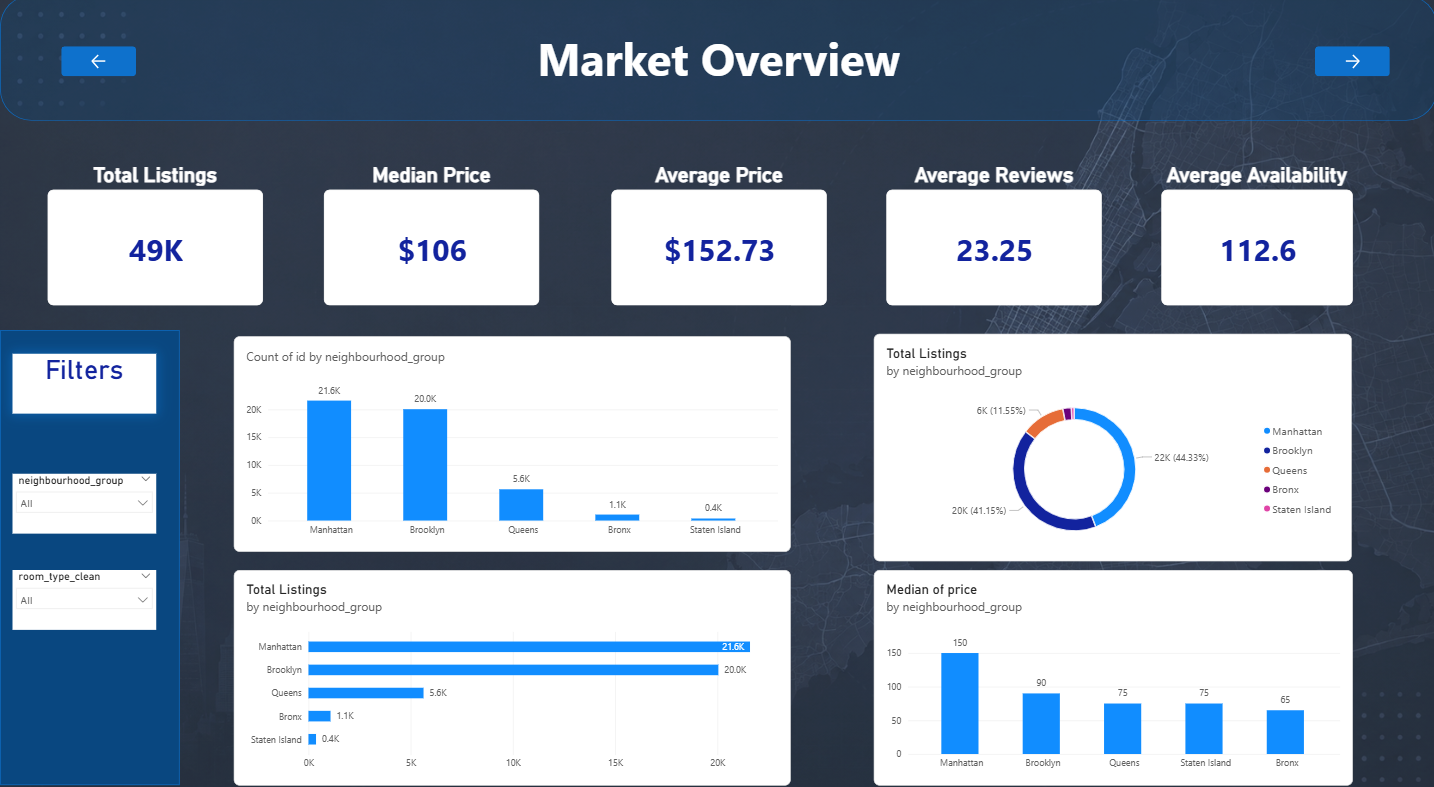

The page's visual inventory and layout, read from the dashboard file:
{"tool":"powerbi","page":{"name":"Market overview","canvas":[1920,1080],"ordinal":1},"visuals":[{"type":"shape","box":[0,448,240,608],"z":0},{"type":"shape","box":[0,0,1920,168],"z":1000},{"type":"cardVisual","title":"Average Availability","fields":{"Data":["NYC_Airbnb_Cleaned.Average Availability"]},"box":[1552,224,256,192],"z":2000},{"type":"cardVisual","title":"Average Reviews","fields":{"Data":["NYC_Airbnb_Cleaned.Average Reviews"]},"box":[1184,224,288,192],"z":3000},{"type":"cardVisual","title":"Median Price","fields":{"Data":["NYC_Airbnb_Cleaned.Median Price"]},"box":[432,224,288,192],"z":4000},{"type":"cardVisual","title":"Average Price","fields":{"Data":["NYC_Airbnb_Cleaned.Average Price"]},"box":[816,224,288,192],"z":5000},{"type":"barChart","fields":{"Category":["NYC_Airbnb_Cleaned.neighbourhood_group"],"Y":["NYC_Airbnb_Cleaned.Total Listings"]},"box":[312,768,744,288],"z":6000},{"type":"slicer","fields":{"Values":["NYC_Airbnb_Cleaned.room_type_clean"]},"box":[16,768,192,80],"z":7000},{"type":"donutChart","fields":{"Category":["NYC_Airbnb_Cleaned.neighbourhood_group"],"Y":["NYC_Airbnb_Cleaned.Total Listings"]},"box":[1168,452,638,304],"z":8000},{"type":"columnChart","fields":{"Category":["NYC_Airbnb_Cleaned.neighbourhood_group"],"Y":["Count(NYC_Airbnb_Cleaned.id)"]},"box":[312,456,744,288],"z":9000},{"type":"clusteredColumnChart","fields":{"Category":["NYC_Airbnb_Cleaned.neighbourhood_group"],"Y":["Median(NYC_Airbnb_Cleaned.price)"]},"box":[1168,768,640,288],"z":10000},{"type":"cardVisual","title":"Total Listings","fields":{"Data":["NYC_Airbnb_Cleaned.Total Listings"]},"box":[64,224,288,192],"z":11000},{"type":"actionButton","box":[81.3,69.1,100,40],"z":12000},{"type":"actionButton","box":[1755.8,69.1,100,40],"z":13000},{"type":"slicer","fields":{"Values":["NYC_Airbnb_Cleaned.neighbourhood_group"]},"box":[16,640,192,80],"z":14000},{"type":"textbox","title":"Filters","box":[16,480,192,80],"z":15000}]}

Visuals, with their boxes in screenshot pixels (x1, y1, x2, y2), scaled from the page's 1920x1080 canvas onto the 1434x787 screenshot:
shape: box(0, 326, 179, 770)
shape: box(0, 0, 1433, 122)
"Average Availability" cardVisual: box(1159, 163, 1350, 303)
"Average Reviews" cardVisual: box(884, 163, 1099, 303)
"Median Price" cardVisual: box(323, 163, 538, 303)
"Average Price" cardVisual: box(609, 163, 825, 303)
barChart - NYC_Airbnb_Cleaned.neighbourhood_group x NYC_Airbnb_Cleaned.Total Listings: box(233, 560, 789, 770)
slicer - NYC_Airbnb_Cleaned.room_type_clean: box(12, 560, 155, 618)
donutChart - NYC_Airbnb_Cleaned.neighbourhood_group x NYC_Airbnb_Cleaned.Total Listings: box(872, 329, 1349, 551)
columnChart - NYC_Airbnb_Cleaned.neighbourhood_group x Count(NYC_Airbnb_Cleaned.id): box(233, 332, 789, 542)
clusteredColumnChart - NYC_Airbnb_Cleaned.neighbourhood_group x Median(NYC_Airbnb_Cleaned.price): box(872, 560, 1350, 770)
"Total Listings" cardVisual: box(48, 163, 263, 303)
actionButton: box(61, 50, 135, 80)
actionButton: box(1311, 50, 1386, 80)
slicer - NYC_Airbnb_Cleaned.neighbourhood_group: box(12, 466, 155, 525)
"Filters" textbox: box(12, 350, 155, 408)
